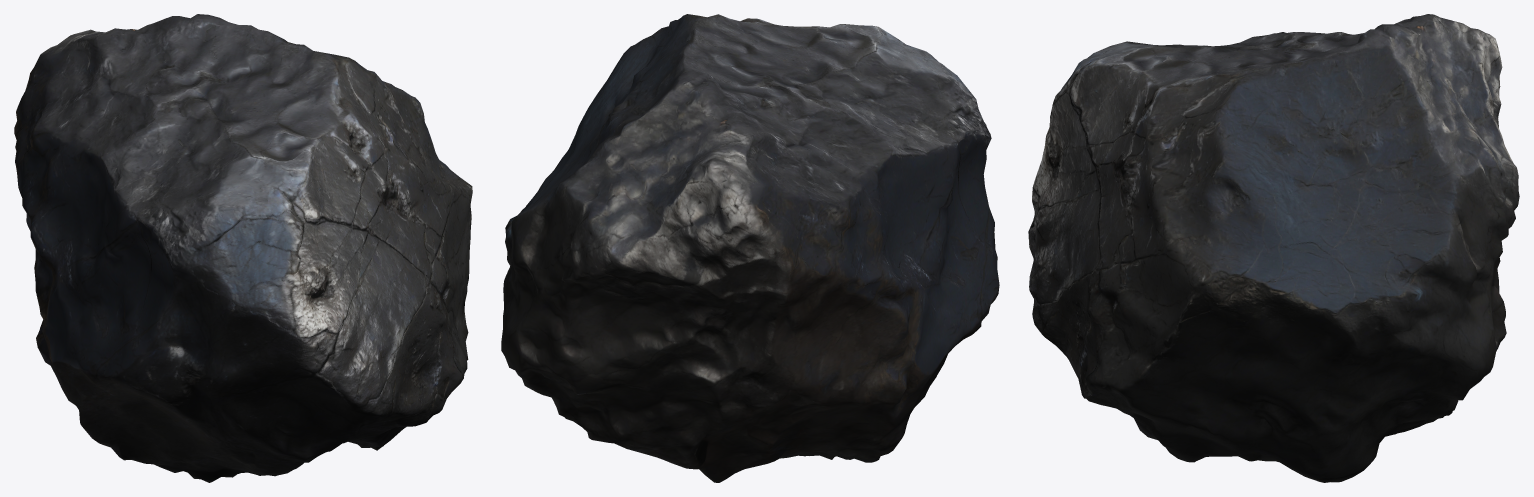
The model's file is carbon.glb.
3 renders of one model, left to right at view 1: azimuth 30°, elevation 25°; view 2: azimuth 150°, elevation 25°; view 3: azimuth 270°, elevation 25°, orthographic. The views are drawn at different scales.
Bounding box in the file's own units: 1.82 × 1.83 × 2.
1 material, 1 textured.
